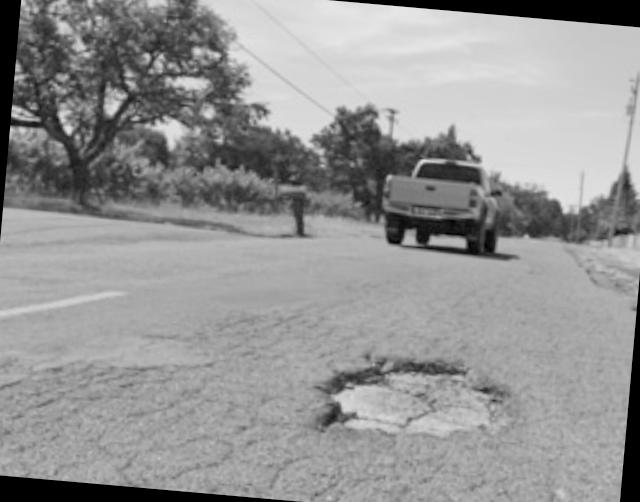Pothole: (304, 328, 525, 466)
